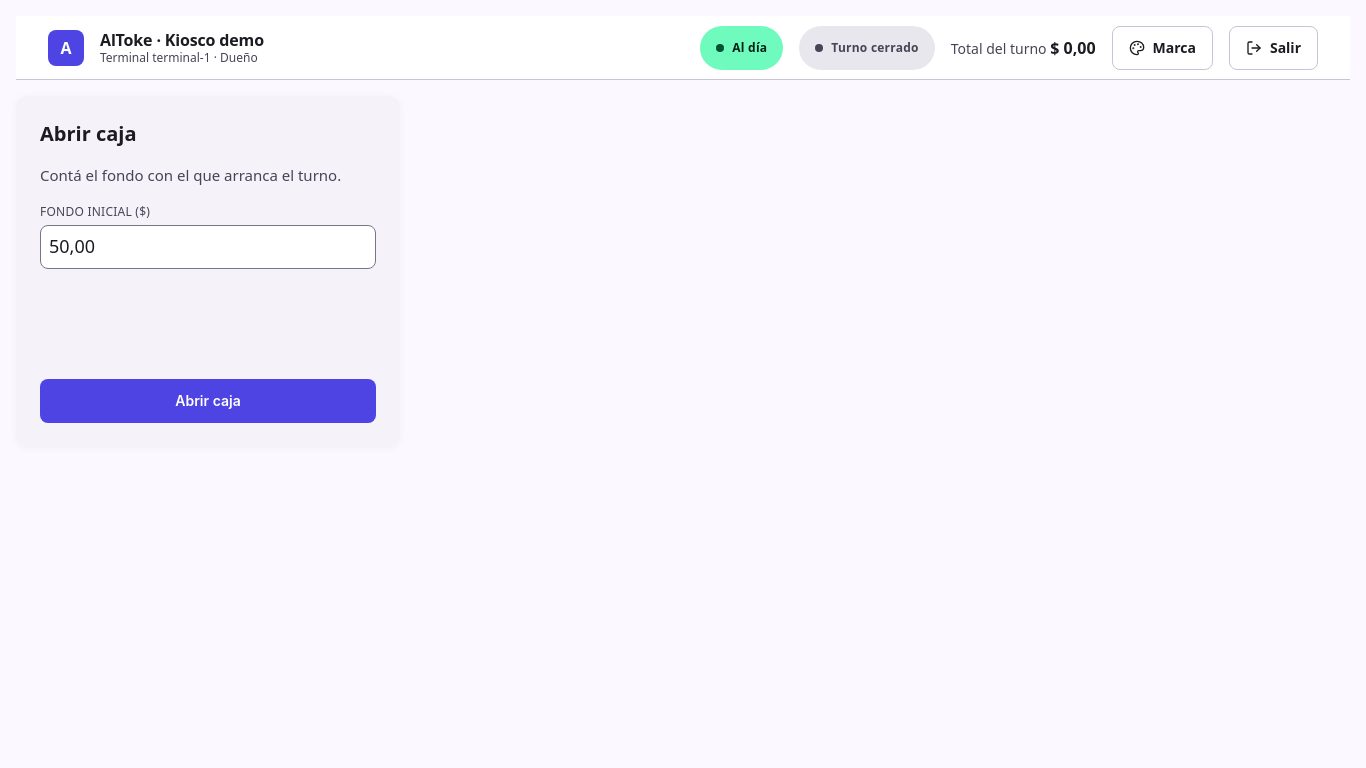
Scenario: POS — abrir la caja › abre el turno con el fondo que escribe el cajero
Replace the text in the field named "Fondo inicial en pesos" with "100" at (208, 246), box x1=40 y1=224 x2=376 y2=268
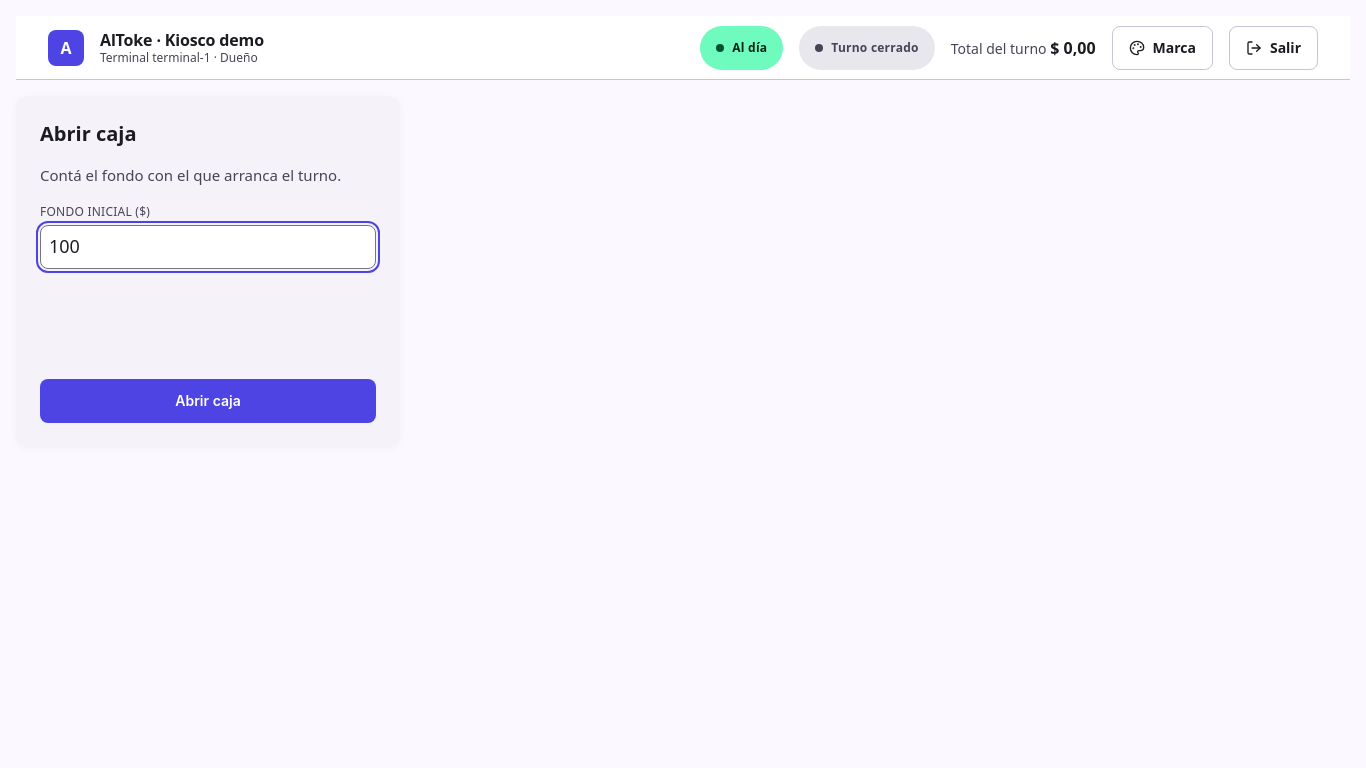
Click the button "Abrir caja".
click(208, 400)  # box x1=40 y1=378 x2=376 y2=422
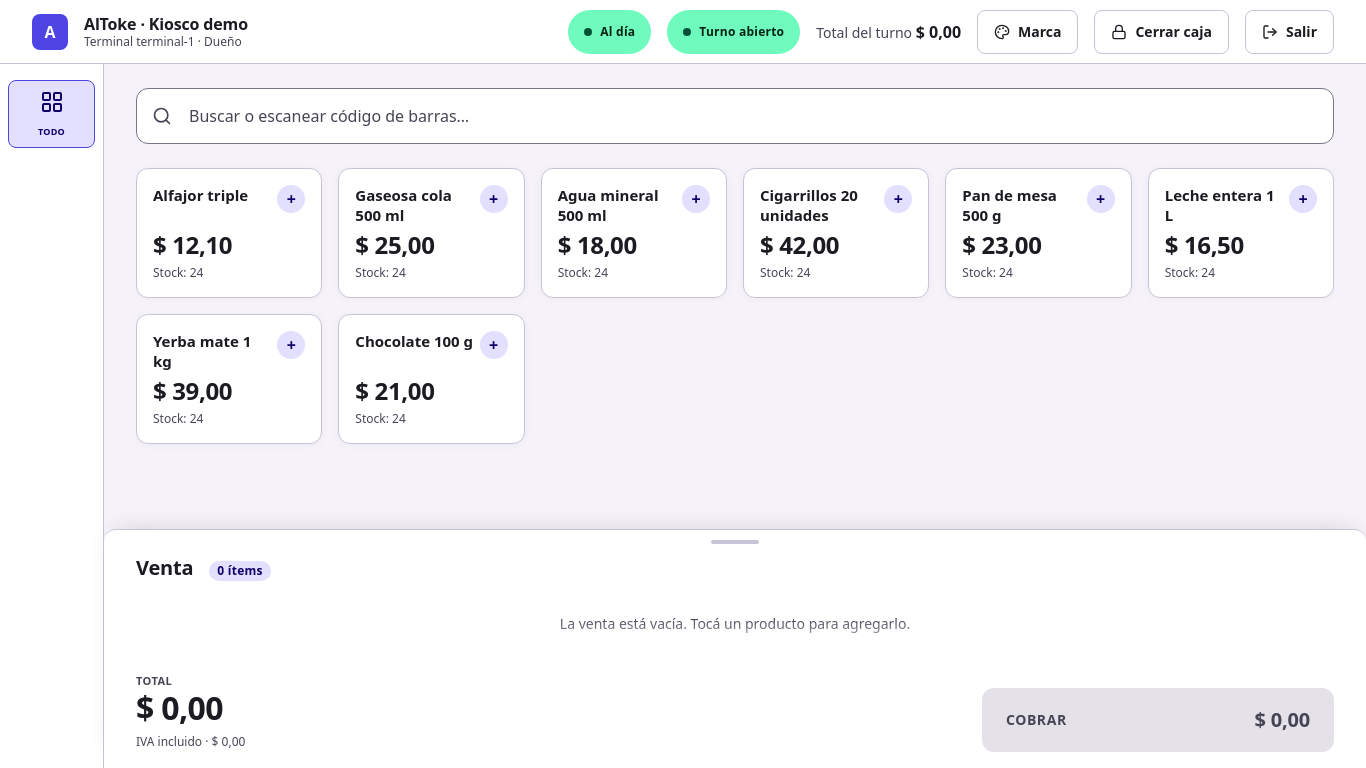
Now the text "Turno abierto" is shown, box x1=667 y1=10 x2=800 y2=54
Now the element named "Productos" is shown, box x1=136 y1=144 x2=1334 y2=529
